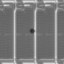dust: (29, 27, 35, 33)
